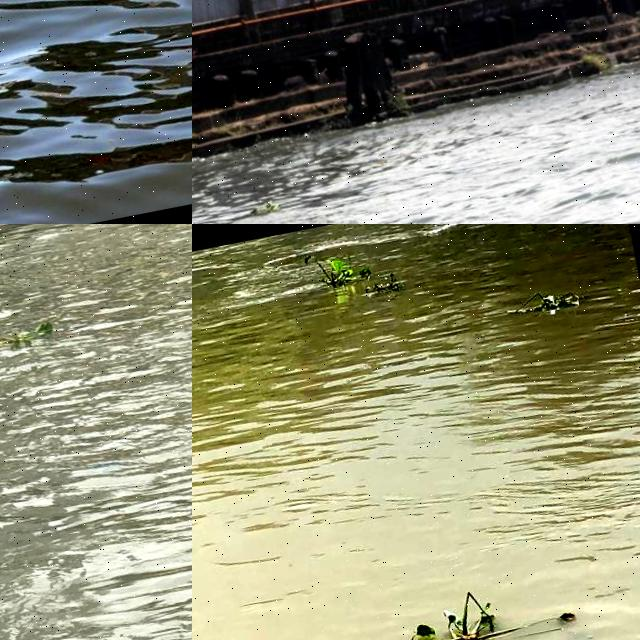water-hyacinth: (398, 570, 586, 640), (304, 253, 404, 298), (1, 318, 56, 355)
